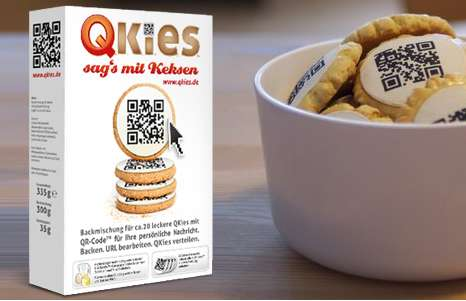qr_code: (369, 40, 447, 92), (126, 96, 166, 147), (31, 21, 62, 69)
